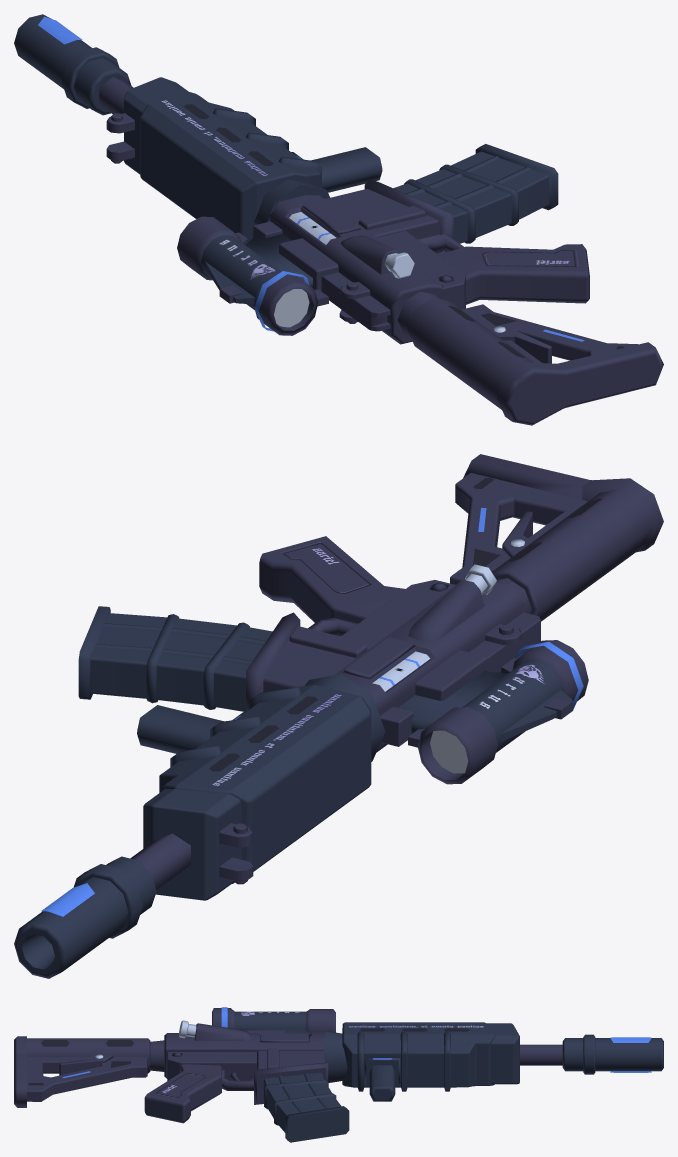
Rendered from saori.glb.
The picture shows the model from 3 angles, top to bottom: view 1: azimuth 30°, elevation 25°; view 2: azimuth 150°, elevation 25°; view 3: azimuth 270°, elevation 25°; orthographic projection. The views are drawn at different scales.
Visible parts, largest first — view 1: Saori_Original_Weapon; view 2: Saori_Original_Weapon; view 3: Saori_Original_Weapon.
Part boxes in pixels (x1,y1,x2,y2): Saori_Original_Weapon: (14, 14, 663, 425); Saori_Original_Weapon: (14, 454, 663, 978); Saori_Original_Weapon: (14, 1007, 663, 1142).
Bounding box in the file's own units: 0.2379 × 0.0595 × 0.5676.
Materials: 1 (1 with a texture image).
